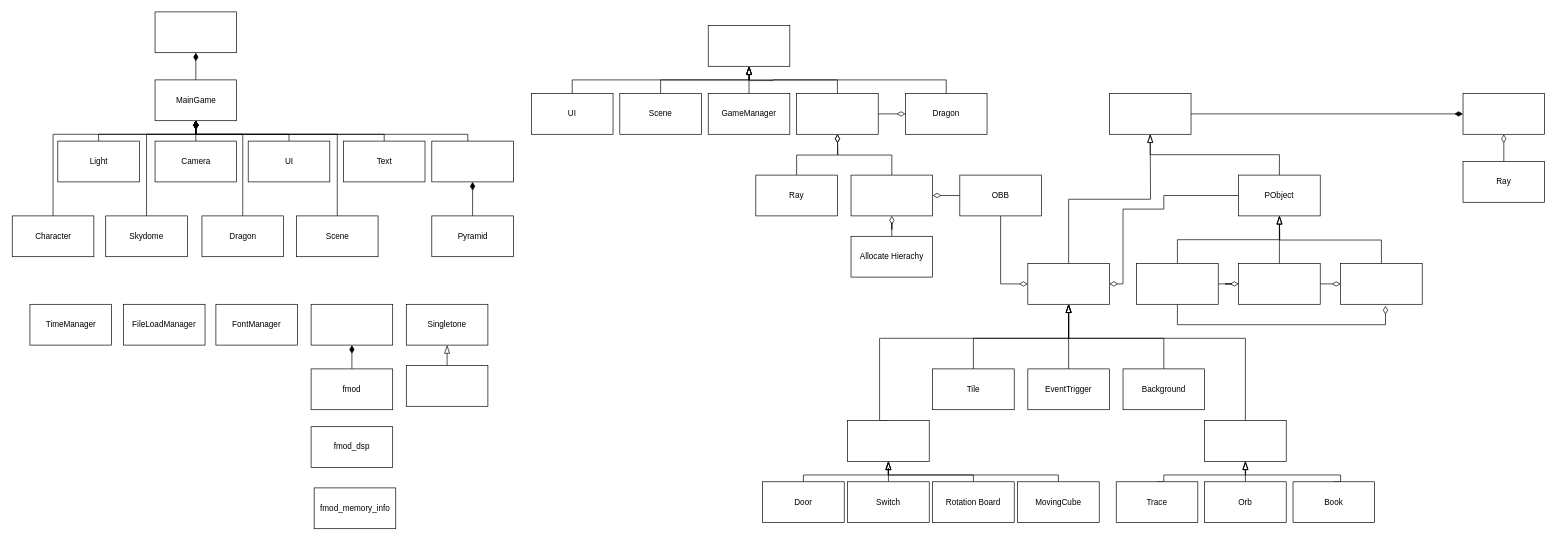
Some shapes in this 1557 by 541 pixel diagram are drawn without their labels. The centre of each missing label's shape, as x and y in pixels:
"<Interface> IListener" belongs at (749,45).
"Box" belongs at (1279,283).
"Caracter" belongs at (837,113).
"Cylinder" belongs at (1381,283).
"DxTeamProejct" belongs at (195,32).
"EventManager" belongs at (447,385).
"Gimmick" belongs at (888,440).
"Grid" belongs at (472,161).
"IObject" belongs at (1068,283).
"Item" belongs at (1245,440).
"Object" belongs at (1150,113).
"ObjectManager" belongs at (1503,113).
"SkinnedMesh" belongs at (891,195).
"SoundManager" belongs at (351,324).
"Sphere" belongs at (1177,283).
